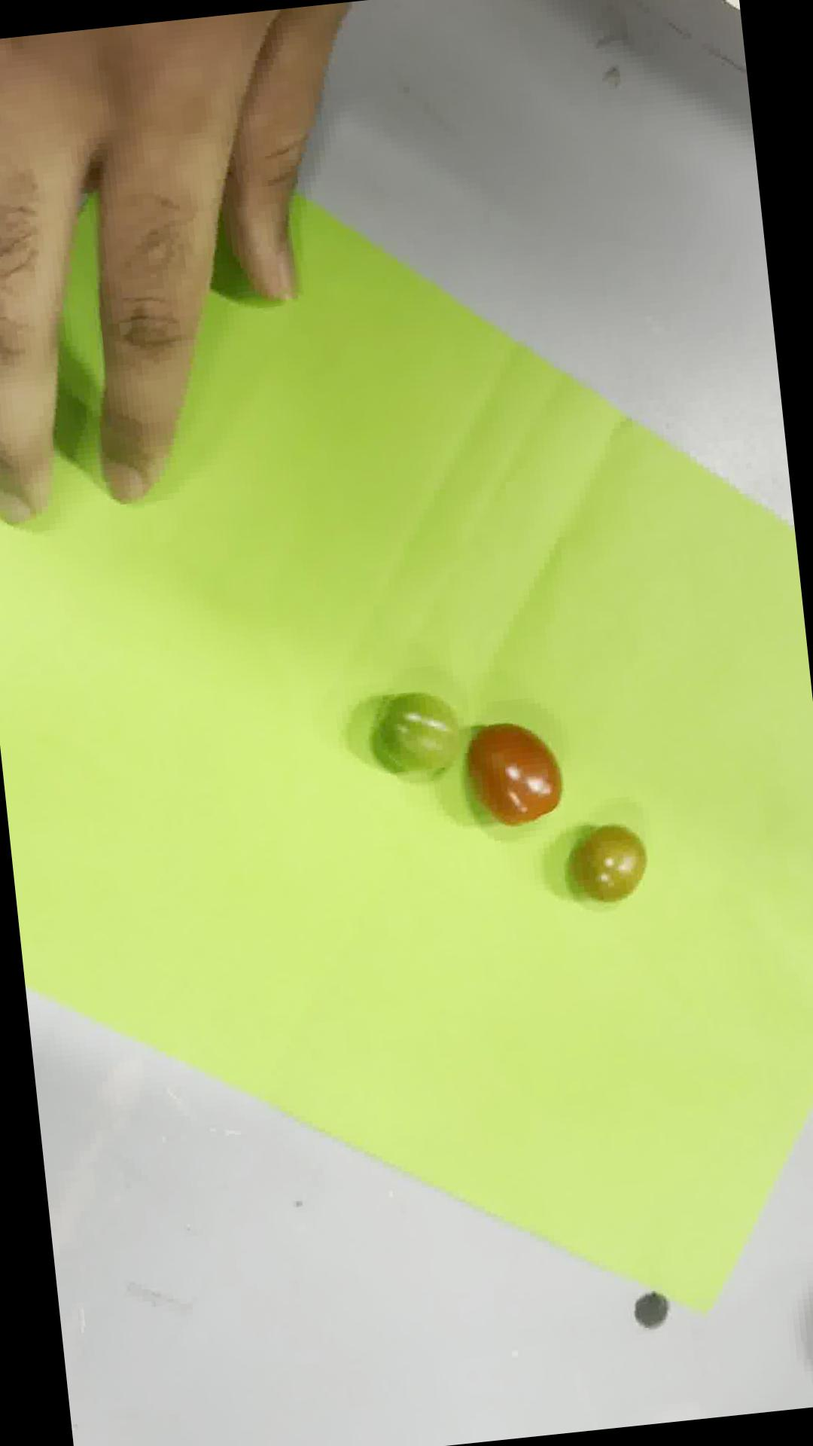green_cherry_tomato: (378, 692, 458, 773)
red_cherry_tomato: (467, 723, 562, 826)
yellow_cherry_tomato: (572, 825, 646, 902)
